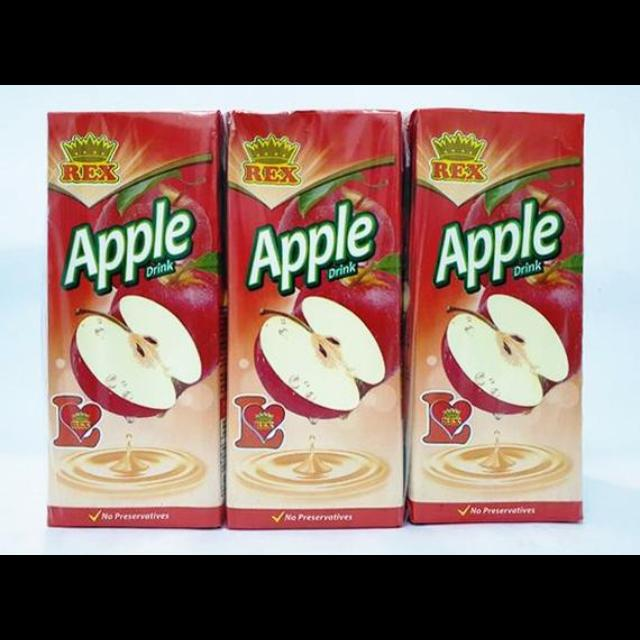caixinha: (224, 106, 403, 528), (45, 111, 225, 529), (408, 102, 584, 524)
